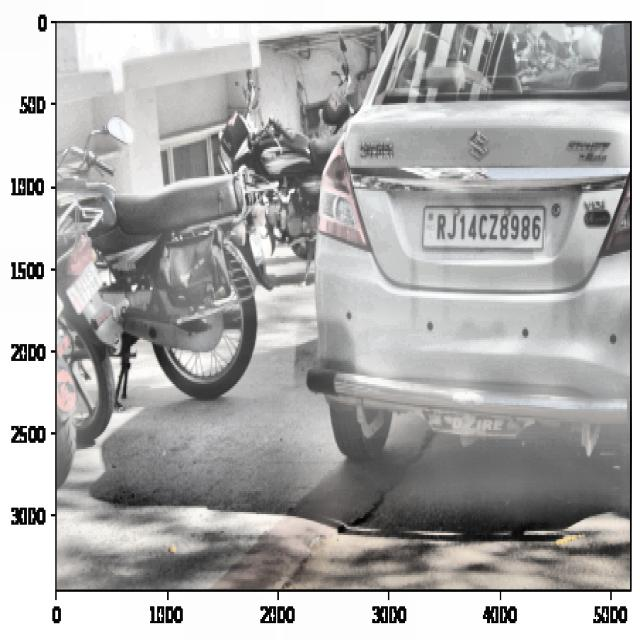license_plate: (430, 209, 546, 250)
